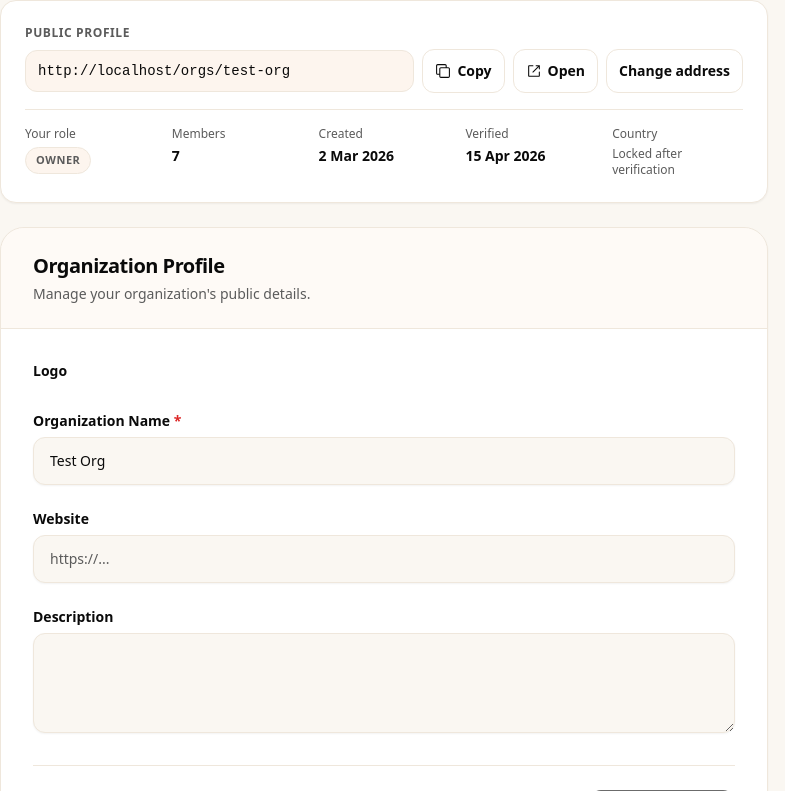
OrganizationProfile summary › shows the public profile URL with copy and open controls
This screenshot has width=785, height=791.
Click the button with aria-label "copy public profile url": coordinates (463, 71) [422, 49, 504, 93]
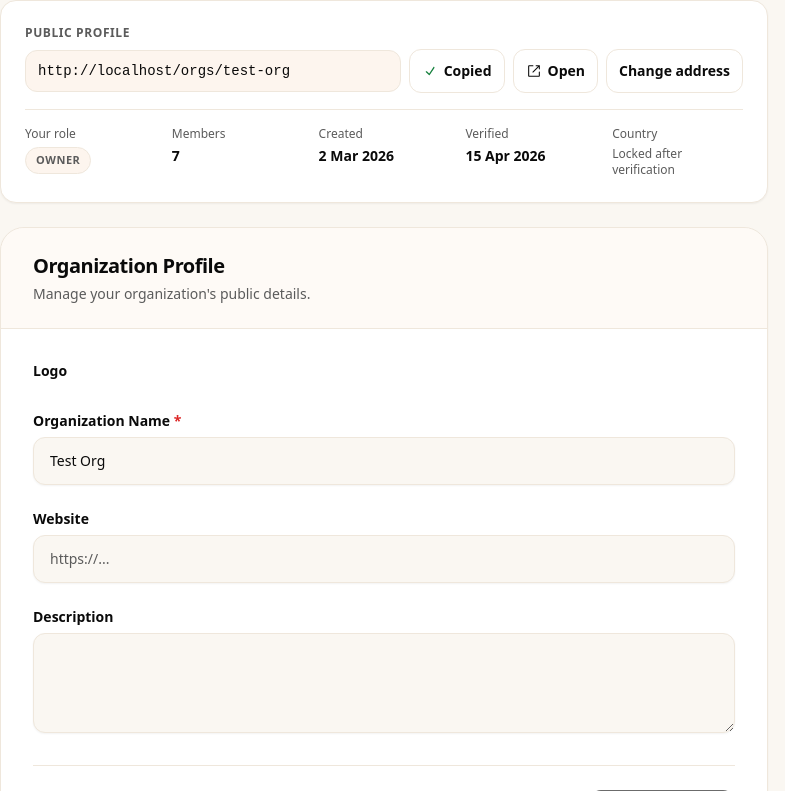
Result: the text "Copied" is shown at [444, 61, 492, 81]
